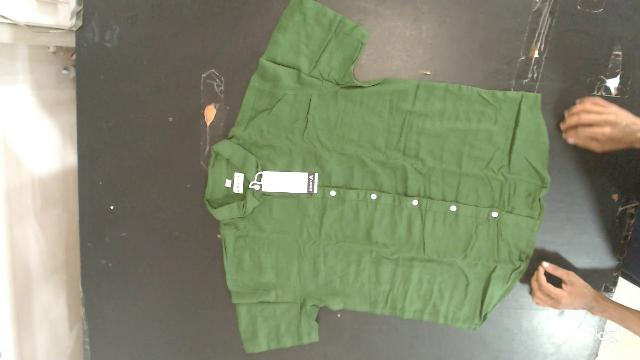new-garment: (205, 0, 549, 352)
